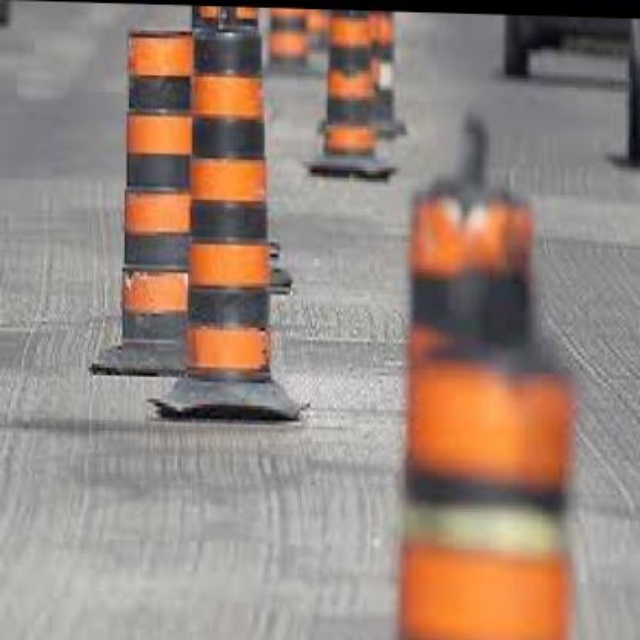obstacle: (181, 19, 273, 390), (113, 25, 190, 350)
